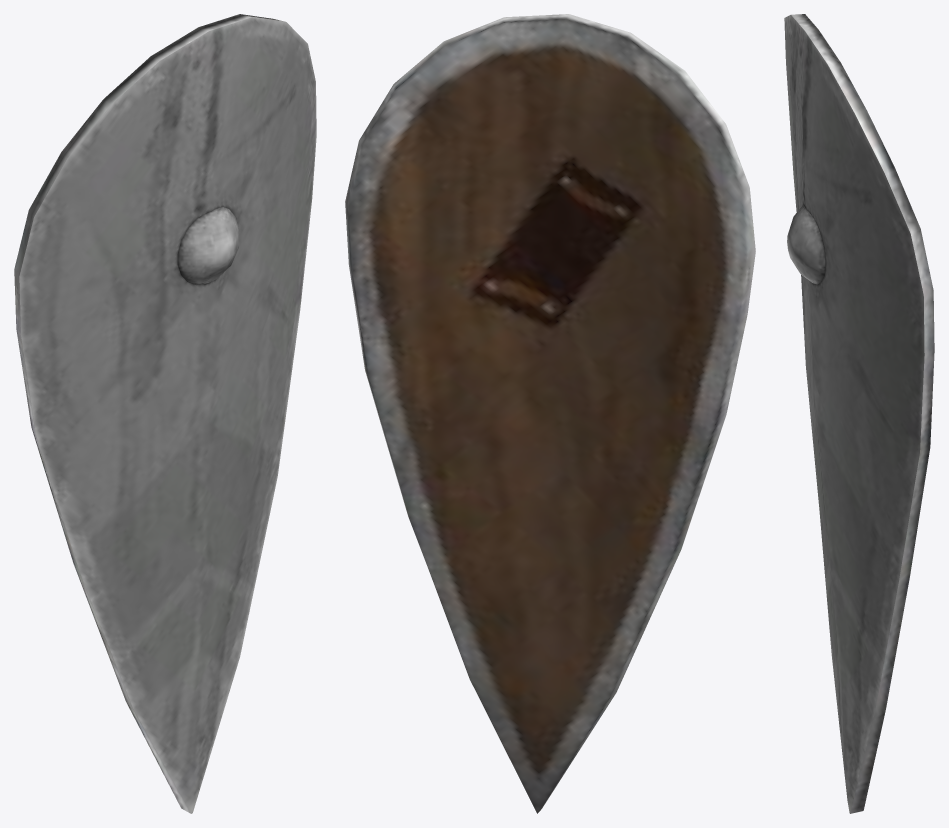
Rendered from shield-ironshields.glb.
3 views of the same model, side by side, from view 1: azimuth 30°, elevation 25°; view 2: azimuth 150°, elevation 25°; view 3: azimuth 270°, elevation 25° (orthographic). The views are drawn at different scales.
Bounding box in the file's own units: 0.6281 × 1.34 × 0.2334.
Materials: 1 (1 with a texture image).
